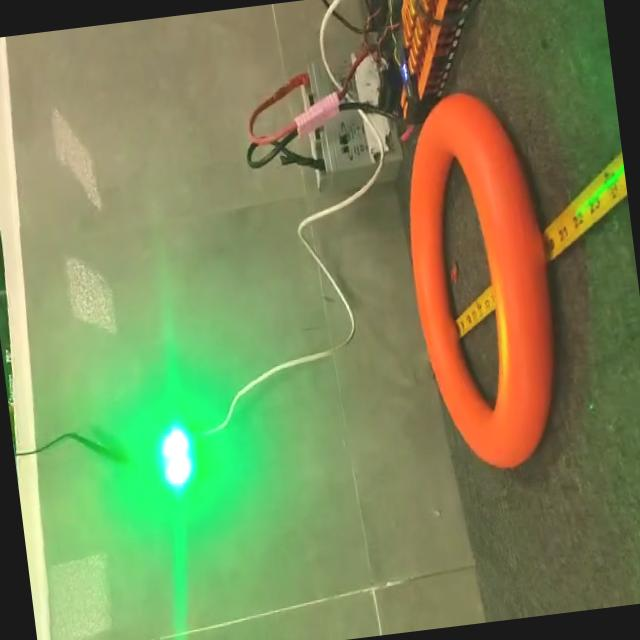note: (388, 79, 572, 484)
